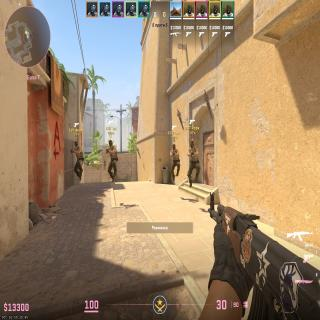T-Body: (187, 140, 200, 179), (106, 140, 118, 176), (74, 141, 84, 176), (170, 144, 180, 174)
T-Head: (190, 140, 194, 148), (74, 141, 78, 147), (109, 140, 112, 146), (172, 144, 175, 150)
